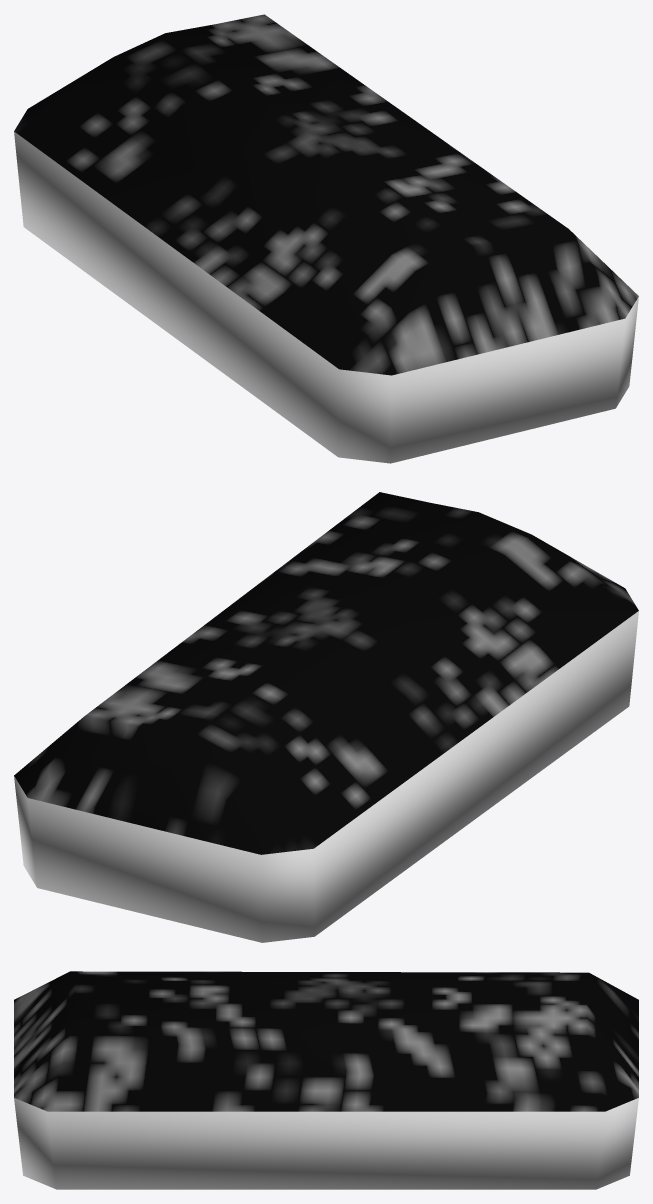
The model's file is SM_PakketKød.fbx.
3 views of the same model, one above another, from view 1: azimuth 30°, elevation 25°; view 2: azimuth 150°, elevation 25°; view 3: azimuth 270°, elevation 25° (orthographic). The views are drawn at different scales.
Parts seen in each view (by area): view 1: Folie, Æske; view 2: Folie, Æske; view 3: Folie, Æske.
Boxes of the visible parts, bbox=[...] form: Folie: bbox=[14, 14, 638, 375]; Æske: bbox=[14, 131, 638, 463]; Folie: bbox=[14, 492, 638, 854]; Æske: bbox=[14, 611, 638, 942]; Folie: bbox=[14, 971, 638, 1111]; Æske: bbox=[14, 1098, 638, 1189].
Bounding box in the file's own units: 40.89 × 21.9 × 86.01.
2 materials, 1 textured.
